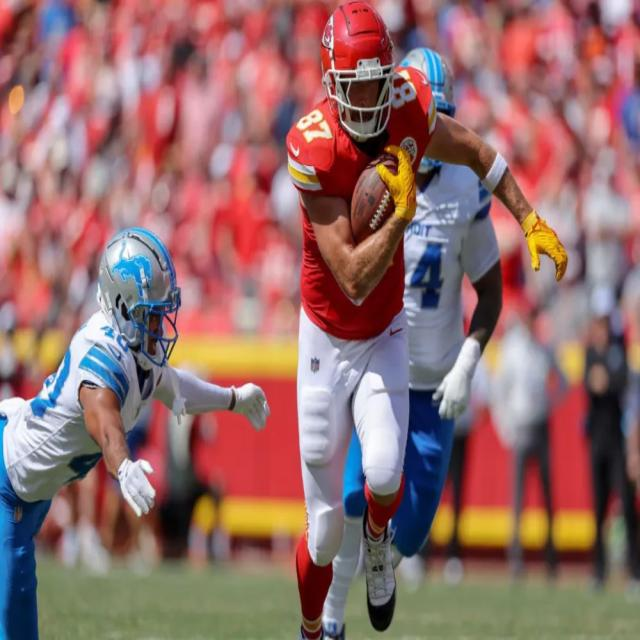Ball: (352, 151, 402, 245)
